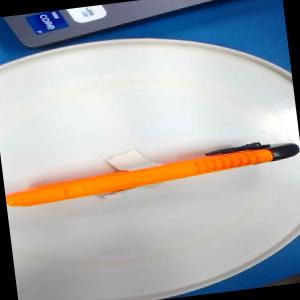estilete: (2, 137, 300, 210)
